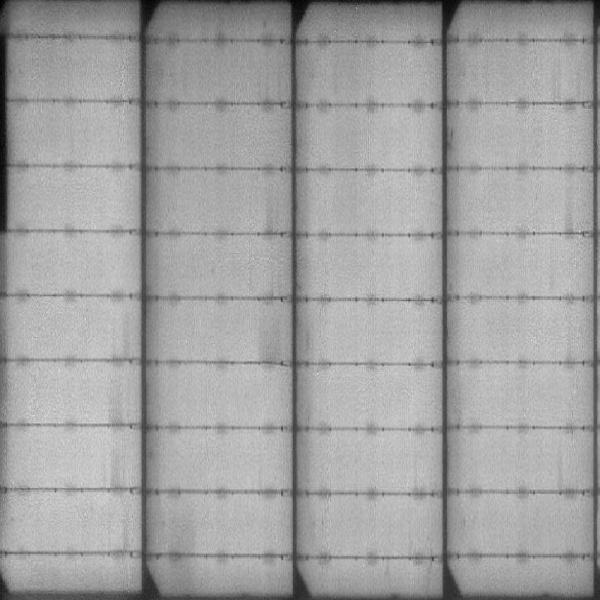black_border: (1, 32, 11, 242)
